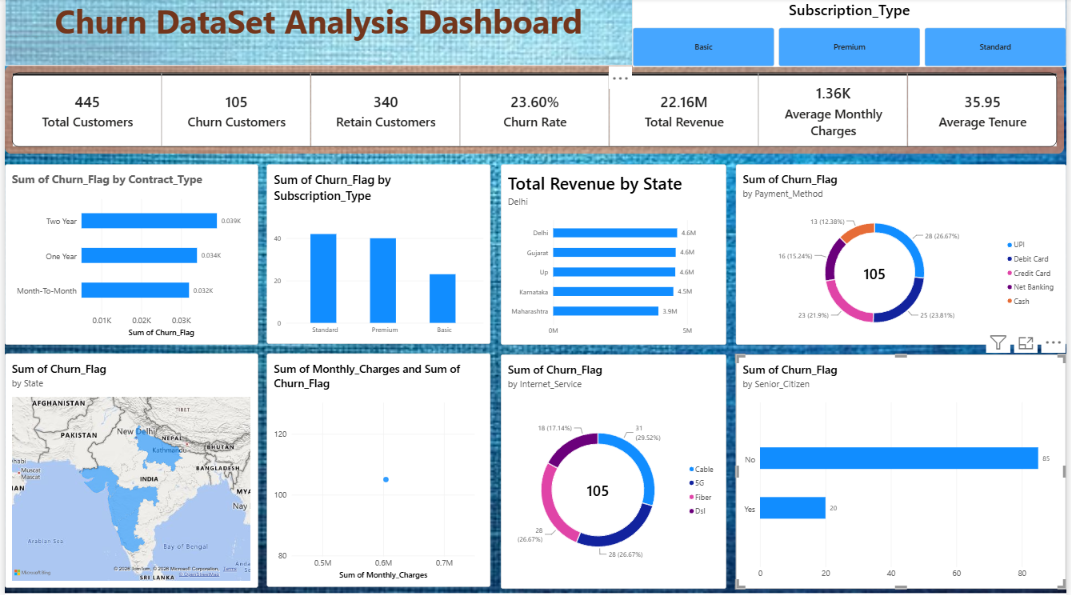

The page's visual inventory and layout, read from the dashboard file:
{"tool":"powerbi","page":{"name":"Page 1","canvas":[1920,1080],"ordinal":0},"visuals":[{"type":"cardVisual","fields":{"Data":["Dax Measure.Total Customers","Dax Measure.Churn Customers","Dax Measure.Retain Customers","Dax Measure.Churn Rate","Dax Measure.Total Revenue","Dax Measure.Average Monthly Charges","Dax Measure.Average Tenure"]},"box":[0,122,1920,160],"z":0},{"type":"textbox","box":[0,0,1136,122],"z":1000},{"type":"clusteredBarChart","fields":{"Category":["Clean_Churn_Data.Contract_Type"],"Y":["Sum(Clean_Churn_Data.Churn_Flag)"]},"box":[0,300,458,326],"z":2000},{"type":"columnChart","title":"Sum of Churn_Flag by Subscription_Type","fields":{"Category":["Clean_Churn_Data.Subscription_Type"],"Y":["Sum(Clean_Churn_Data.Churn_Flag)"]},"box":[475,300,405,325],"z":3000},{"type":"filledMap","fields":{"Category":["Clean_Churn_Data.State"]},"box":[0,642,458,424],"z":4000},{"type":"scatterChart","fields":{"X":["Sum(Clean_Churn_Data.Monthly_Charges)"],"Y":["Sum(Clean_Churn_Data.Churn_Flag)"]},"box":[475,642.5,405,422.5],"z":5000},{"type":"barChart","fields":{"Category":["Clean_Churn_Data.State"],"Y":["Dax Measure.Total Revenue"]},"box":[898,300,408,326],"z":6000},{"type":"donutChart","fields":{"Category":["Clean_Churn_Data.Internet_Service"],"Y":["Sum(Clean_Churn_Data.Churn_Flag)"]},"box":[898,644,408,424],"z":7000},{"type":"donutChart","fields":{"Category":["Clean_Churn_Data.Payment_Method"],"Y":["Sum(Clean_Churn_Data.Churn_Flag)"]},"box":[1322,300,598,326],"z":8000},{"type":"barChart","fields":{"Category":["Clean_Churn_Data.Senior_Citizen"],"Y":["Sum(Clean_Churn_Data.Churn_Flag)"]},"box":[1322,644,598,424],"z":9000},{"type":"advancedSlicerVisual","fields":{"Values":["Clean_Churn_Data.Subscription_Type"]},"box":[1136,2,784,122],"z":10000}]}

Visuals, with their boxes in screenshot pixels (x1, y1, x2, y2), scaled from the page's 1920x1080 canvas onto the 1071x595 screenshot:
cardVisual - Dax Measure.Total Customers x Dax Measure.Churn Customers: BBox(0, 67, 1070, 155)
textbox: BBox(0, 0, 634, 67)
clusteredBarChart - Clean_Churn_Data.Contract_Type x Sum(Clean_Churn_Data.Churn_Flag): BBox(0, 165, 255, 345)
"Sum of Churn_Flag by Subscription_Type" columnChart: BBox(265, 165, 491, 344)
filledMap - Clean_Churn_Data.State: BBox(0, 354, 255, 587)
scatterChart - Sum(Clean_Churn_Data.Monthly_Charges) x Sum(Clean_Churn_Data.Churn_Flag): BBox(265, 354, 491, 587)
barChart - Clean_Churn_Data.State x Dax Measure.Total Revenue: BBox(501, 165, 729, 345)
donutChart - Clean_Churn_Data.Internet_Service x Sum(Clean_Churn_Data.Churn_Flag): BBox(501, 355, 729, 588)
donutChart - Clean_Churn_Data.Payment_Method x Sum(Clean_Churn_Data.Churn_Flag): BBox(737, 165, 1070, 345)
barChart - Clean_Churn_Data.Senior_Citizen x Sum(Clean_Churn_Data.Churn_Flag): BBox(737, 355, 1070, 588)
advancedSlicerVisual - Clean_Churn_Data.Subscription_Type: BBox(634, 1, 1070, 68)
